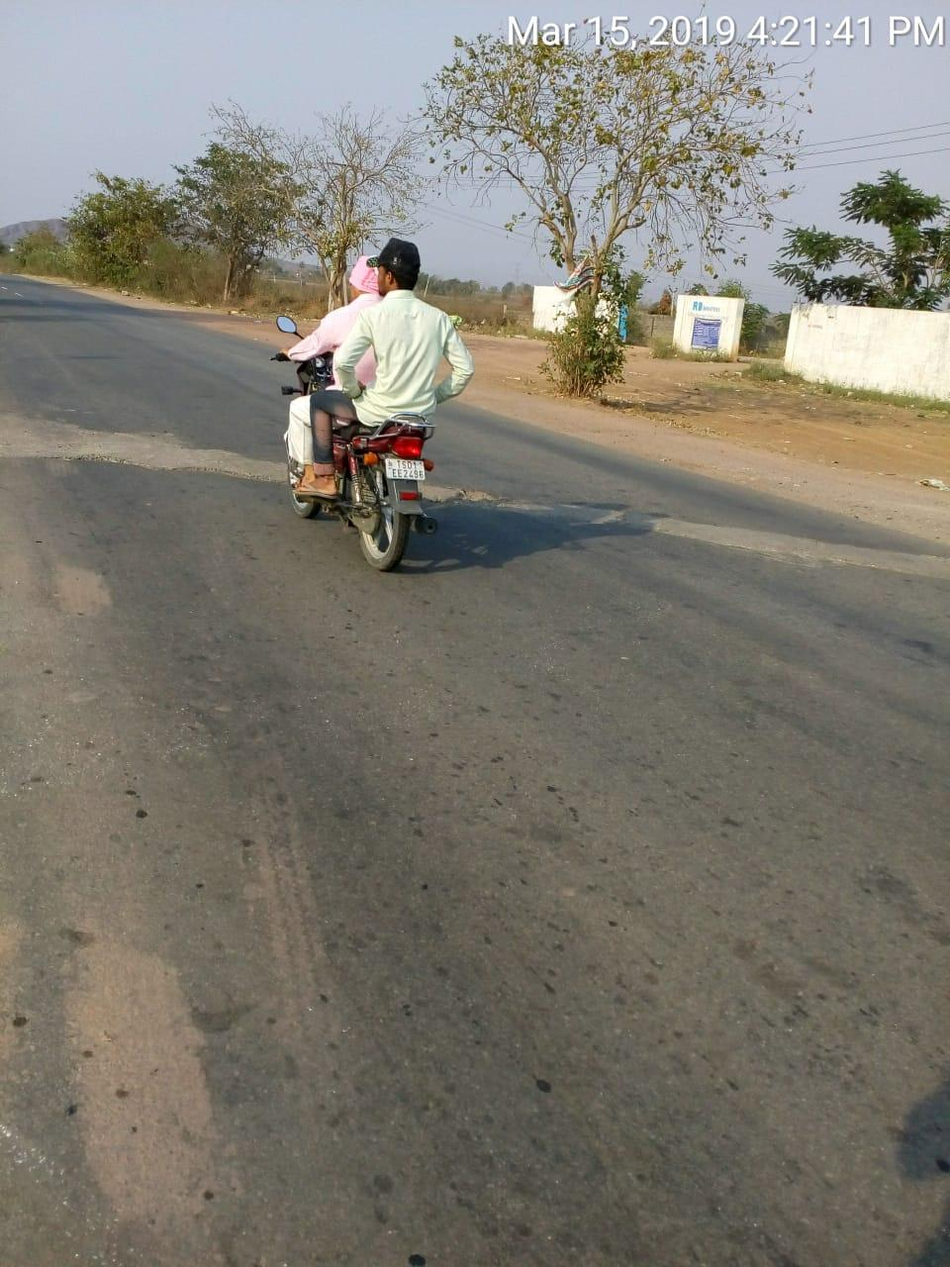plate: (381, 454, 431, 484)
